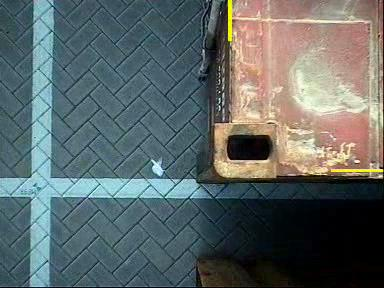groundmarker_2: (144, 148, 197, 186)
